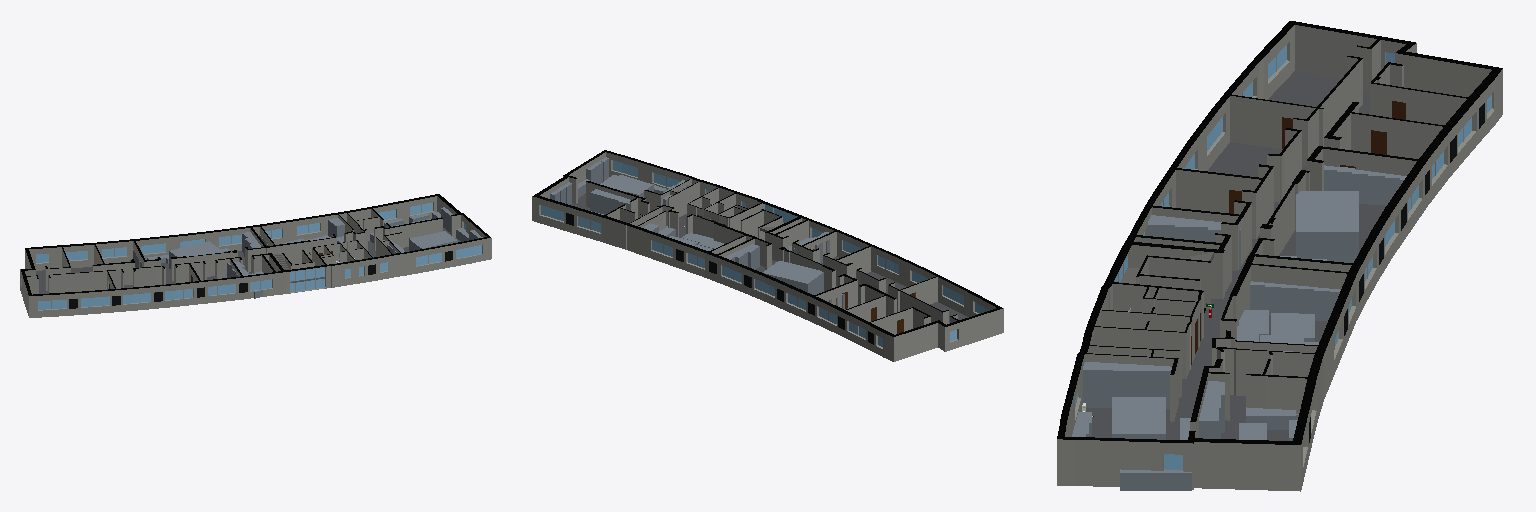
URDF robot description (celisca_floor_2):
<?xml version='1.0' encoding='utf-8'?>
<robot name="celisca_floor_2">
  <link name="floor" concave="yes">
    <inertial>
      <mass value="0" />
      <inertia ixx="0" ixy="0" ixz="0" iyy="0" iyz="0" izz="0" />
    </inertial>
    <visual name="visual_0">
      <geometry>
        <mesh filename="meshes/visual_material_000.obj" scale="1 1 1" />
      </geometry>
      <material name="material_0">
        <color rgba="0.36 0.37 0.38 1" />
      </material>
    </visual>
    <visual name="visual_1">
      <geometry>
        <mesh filename="meshes/visual_material_001.obj" scale="1 1 1" />
      </geometry>
      <material name="material_1">
        <color rgba="0.45 0.45 0.43 1" />
      </material>
    </visual>
    <visual name="visual_2">
      <geometry>
        <mesh filename="meshes/visual_material_002.obj" scale="1 1 1" />
      </geometry>
      <material name="material_2">
        <color rgba="0.02 0.02 0.022 1" />
      </material>
    </visual>
    <visual name="visual_3">
      <geometry>
        <mesh filename="meshes/visual_material_003.obj" scale="1 1 1" />
      </geometry>
      <material name="material_3">
        <color rgba="0.62 0.62 0.6 1" />
      </material>
    </visual>
    <visual name="visual_4">
      <geometry>
        <mesh filename="meshes/visual_material_004.obj" scale="1 1 1" />
      </geometry>
      <material name="material_4">
        <color rgba="0.03 0.032 0.036 1" />
      </material>
    </visual>
    <visual name="visual_5">
      <geometry>
        <mesh filename="meshes/visual_material_005.obj" scale="1 1 1" />
      </geometry>
      <material name="material_5">
        <color rgba="0.55 0.75 0.88 0.3" />
      </material>
    </visual>
    <visual name="visual_6">
      <geometry>
        <mesh filename="meshes/visual_material_006.obj" scale="1 1 1" />
      </geometry>
      <material name="material_6">
        <color rgba="0.32 0.2 0.11 1" />
      </material>
    </visual>
    <visual name="visual_7">
      <geometry>
        <mesh filename="meshes/visual_material_007.obj" scale="1 1 1" />
      </geometry>
      <material name="material_7">
        <color rgba="0.1 0.11 0.12 1" />
      </material>
    </visual>
    <visual name="visual_8">
      <geometry>
        <mesh filename="meshes/visual_material_008.obj" scale="1 1 1" />
      </geometry>
      <material name="material_8">
        <color rgba="0.52 0.56 0.6 1" />
      </material>
    </visual>
    <visual name="visual_9">
      <geometry>
        <mesh filename="meshes/visual_material_009.obj" scale="1 1 1" />
      </geometry>
      <material name="material_9">
        <color rgba="0.91 0.92 0.9 1" />
      </material>
    </visual>
    <visual name="visual_10">
      <geometry>
        <mesh filename="meshes/visual_material_010.obj" scale="1 1 1" />
      </geometry>
      <material name="material_10">
        <color rgba="0.98 0.98 0.97 1" />
      </material>
    </visual>
    <visual name="visual_11">
      <geometry>
        <mesh filename="meshes/visual_material_011.obj" scale="1 1 1" />
      </geometry>
      <material name="material_11">
        <color rgba="0.23 0.3 0.33 1" />
      </material>
    </visual>
    <visual name="visual_12">
      <geometry>
        <mesh filename="meshes/visual_material_012.obj" scale="1 1 1" />
      </geometry>
      <material name="material_12">
        <color rgba="0.54 0.59 0.62 1" />
      </material>
    </visual>
    <visual name="visual_13">
      <geometry>
        <mesh filename="meshes/visual_material_013.obj" scale="1 1 1" />
      </geometry>
      <material name="material_13">
        <color rgba="0.97 0.98 0.97 1" />
      </material>
    </visual>
    <visual name="visual_14">
      <geometry>
        <mesh filename="meshes/visual_material_014.obj" scale="1 1 1" />
      </geometry>
      <material name="material_14">
        <color rgba="0.63 0.77 0.83 1" />
      </material>
    </visual>
    <visual name="visual_15">
      <geometry>
        <mesh filename="meshes/visual_material_015.obj" scale="1 1 1" />
      </geometry>
      <material name="material_15">
        <color rgba="0.6 0.72 0.75 1" />
      </material>
    </visual>
    <visual name="visual_16">
      <geometry>
        <mesh filename="meshes/visual_material_016.obj" scale="1 1 1" />
      </geometry>
      <material name="material_16">
        <color rgba="0.03 0.38 0.16 1" />
      </material>
    </visual>
    <visual name="visual_17">
      <geometry>
        <mesh filename="meshes/visual_material_017.obj" scale="1 1 1" />
      </geometry>
      <material name="material_17">
        <color rgba="0.7 0.045 0.035 1" />
      </material>
    </visual>
    <visual name="visual_18">
      <geometry>
        <mesh filename="meshes/visual_material_018.obj" scale="1 1 1" />
      </geometry>
      <material name="material_18">
        <color rgba="0.91 0.93 0.93 1" />
      </material>
    </visual>
    <visual name="visual_19">
      <geometry>
        <mesh filename="meshes/visual_material_019.obj" scale="1 1 1" />
      </geometry>
      <material name="material_19">
        <color rgba="0.1 0.12 0.14 1" />
      </material>
    </visual>
    <visual name="visual_20">
      <geometry>
        <mesh filename="meshes/visual_material_020.obj" scale="1 1 1" />
      </geometry>
      <material name="material_20">
        <color rgba="0.65 0.41 0.24 1" />
      </material>
    </visual>
    <visual name="visual_21">
      <geometry>
        <mesh filename="meshes/visual_material_021.obj" scale="1 1 1" />
      </geometry>
      <material name="material_21">
        <color rgba="0.91 0.72 0.14 1" />
      </material>
    </visual>
    <visual name="visual_22">
      <geometry>
        <mesh filename="meshes/visual_material_022.obj" scale="1 1 1" />
      </geometry>
      <material name="material_22">
        <color rgba="0.76 0.14 0.14 1" />
      </material>
    </visual>
    <visual name="visual_23">
      <geometry>
        <mesh filename="meshes/visual_material_023.obj" scale="1 1 1" />
      </geometry>
      <material name="material_23">
        <color rgba="0.078 0.325 0.569 1" />
      </material>
    </visual>
    <visual name="visual_24">
      <geometry>
        <mesh filename="meshes/visual_material_024.obj" scale="1 1 1" />
      </geometry>
      <material name="material_24">
        <color rgba="0.77 0.82 0.83 1" />
      </material>
    </visual>
    <visual name="visual_25">
      <geometry>
        <mesh filename="meshes/visual_material_025.obj" scale="1 1 1" />
      </geometry>
      <material name="material_25">
        <color rgba="0.43 0.49 0.51 1" />
      </material>
    </visual>
    <collision concave="yes">
      <geometry>
        <mesh filename="meshes/collision.obj" scale="1 1 1" />
      </geometry>
    </collision>
  </link>
</robot>

--- Facts derived from the render (not from the file) ---
3 views of the same robot in one strip: view 1: azimuth 30°, elevation 25°; view 2: azimuth 150°, elevation 25°; view 3: azimuth 270°, elevation 25° (orthographic).
Robot: celisca_floor_2 — 1 links, 0 joints (none); root link floor; default pose: all joints at 0.
Visible links, largest first — view 1: floor; view 2: floor; view 3: floor.
Link boxes in pixels (x1,y1,x2,y2): floor: (20,194,491,317); floor: (532,150,1003,361); floor: (1057,21,1502,491).
Bounding box of the posed robot: 59.14 × 26.27 × 3.36 m (x, y, z).
26 mesh visuals loaded from 26 distinct referenced files (26 OBJ).
